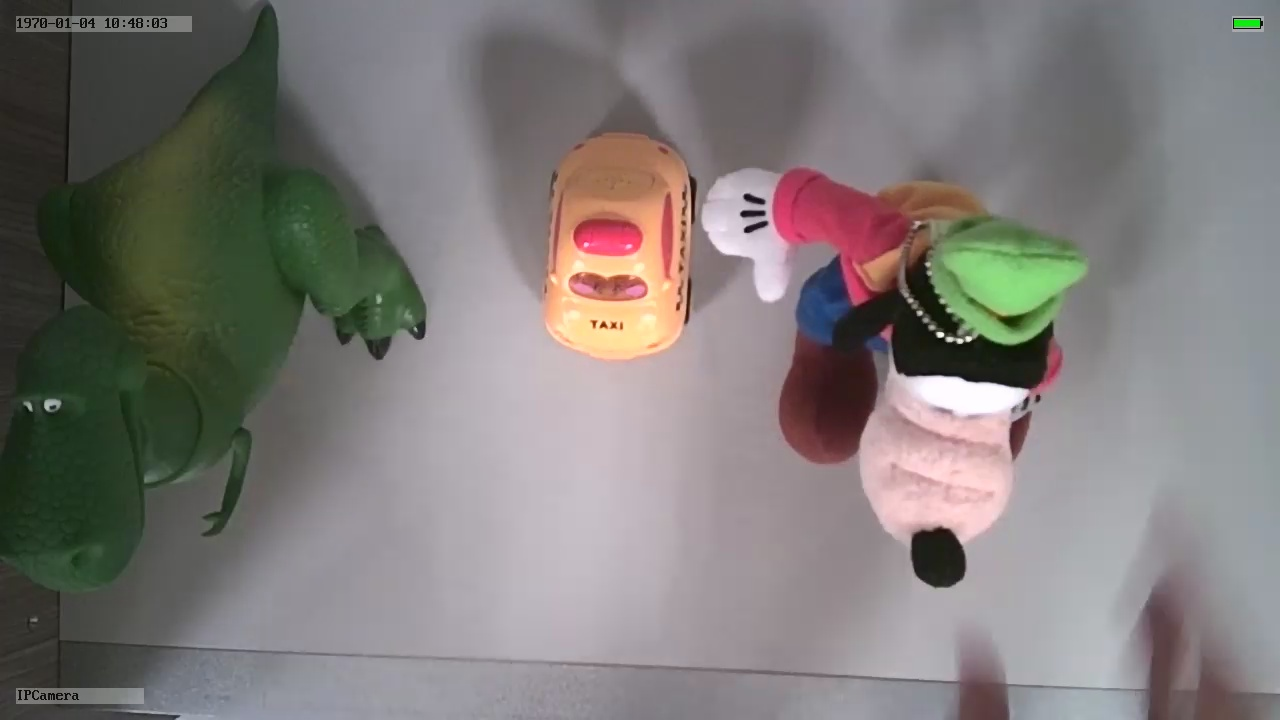car: (541, 123, 699, 359)
goofy: (701, 159, 1083, 594)
rex: (1, 71, 427, 596)
